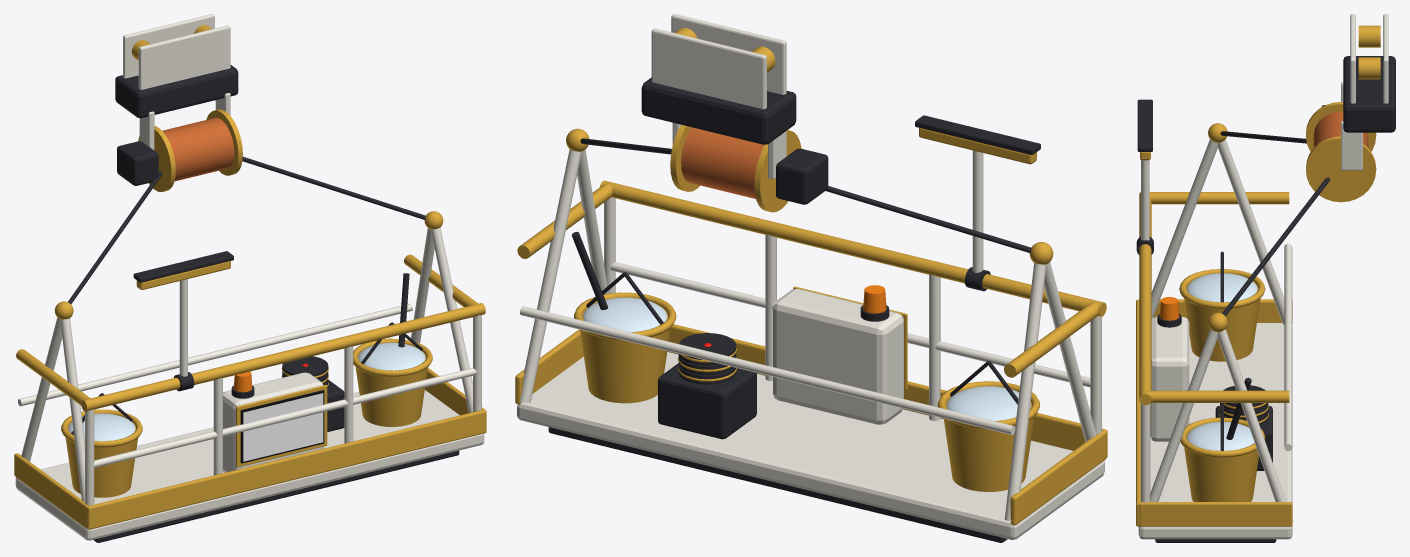
The model's file is window-washer-gondola.fbx.
3 views of the same model, side by side, from view 1: azimuth 30°, elevation 25°; view 2: azimuth 150°, elevation 25°; view 3: azimuth 270°, elevation 25° (orthographic). The views are drawn at different scales.
Parts seen in each view (by area): view 1: Deck, KickPlate, TopRail, CheekR, Rail, Face, WeakPoint, MidRail, BackRail, Plate_bucket-left, ControlBox, Plate_bucket-right (+30 smaller); view 2: Deck, ControlBox, TopRail, CheekL, Rail, MineCrate, BackRail, Plate_bucket-left, Plate_bucket-right, WeakPoint, StirrupBackL, ToeBoardR (+27 smaller); view 3: Deck, ToeBoardL, ControlBox, Plate_bucket-left, Rail, WinchFlangeL, Plate_bucket-right, TopRail, StirrupBackR, StirrupFrontR, StirrupBackL, StirrupFrontL (+26 smaller).
Boxes of the visible parts, <box> form: Deck: <box>15,390,484,540</box>; KickPlate: <box>87,409,486,529</box>; TopRail: <box>81,303,485,411</box>; CheekR: <box>138,25,230,89</box>; Rail: <box>115,65,238,118</box>; Face: <box>243,393,323,461</box>; WeakPoint: <box>162,117,234,181</box>; MidRail: <box>93,368,476,467</box>; BackRail: <box>18,303,412,406</box>; Plate_bucket-left: <box>355,348,427,426</box>; ControlBox: <box>223,372,324,472</box>; Plate_bucket-right: <box>65,419,137,497</box>; Deck: <box>517,352,1104,539</box>; ControlBox: <box>773,289,903,424</box>; TopRail: <box>599,180,1106,316</box>; CheekL: <box>651,28,766,109</box>; Rail: <box>641,77,796,144</box>; MineCrate: <box>658,363,756,439</box>; BackRail: <box>519,306,1015,434</box>; Plate_bucket-left: <box>580,303,670,403</box>; Plate_bucket-right: <box>943,393,1034,491</box>; WeakPoint: <box>681,127,764,198</box>; StirrupBackL: <box>519,149,581,403</box>; ToeBoardR: <box>1010,430,1106,525</box>; Deck: <box>1138,323,1292,539</box>; ToeBoardL: <box>1139,502,1292,526</box>; ControlBox: <box>1150,316,1189,441</box>; Plate_bucket-left: <box>1184,427,1258,501</box>; Rail: <box>1343,56,1395,132</box>; WinchFlangeL: <box>1306,136,1376,202</box>; Plate_bucket-right: <box>1184,279,1260,361</box>; TopRail: <box>1139,192,1151,405</box>; StirrupBackR: <box>1218,139,1292,324</box>; StirrupFrontR: <box>1151,139,1217,318</box>; StirrupBackL: <box>1218,329,1292,521</box>; StirrupFrontL: <box>1149,329,1217,502</box>.
Bounding box in the file's own units: 2.21 × 2.08 × 1.18.
